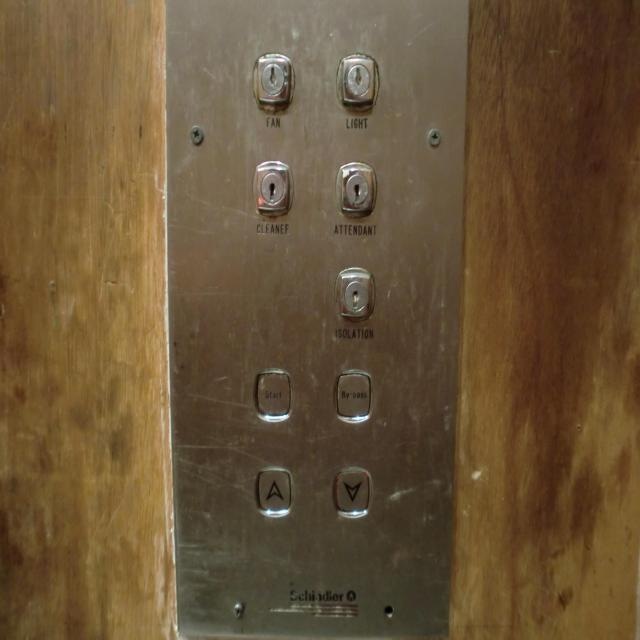down: (332, 464, 374, 520)
keyhole: (252, 52, 295, 112), (252, 159, 294, 218), (336, 53, 378, 111), (334, 160, 376, 218), (335, 267, 375, 322)
text_bypass: (332, 369, 373, 423)
text_start: (254, 368, 294, 423)
up: (253, 464, 295, 519)
